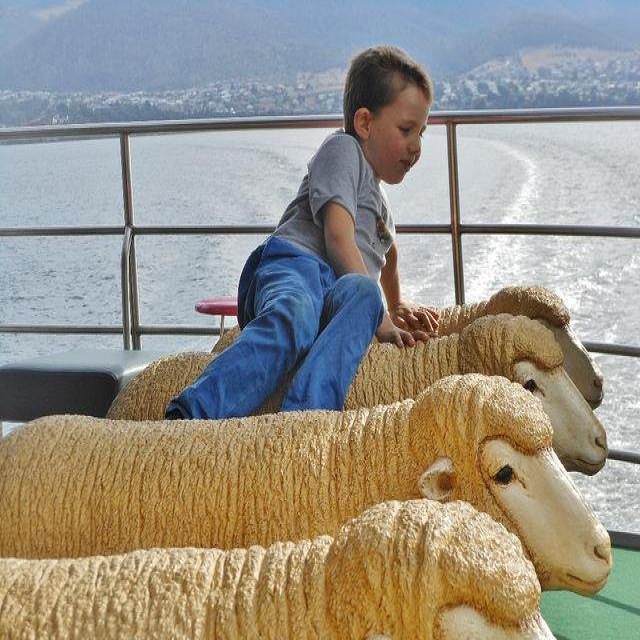Sheep: (3, 370, 614, 594), (103, 315, 609, 477), (0, 500, 550, 633), (212, 280, 607, 409)
